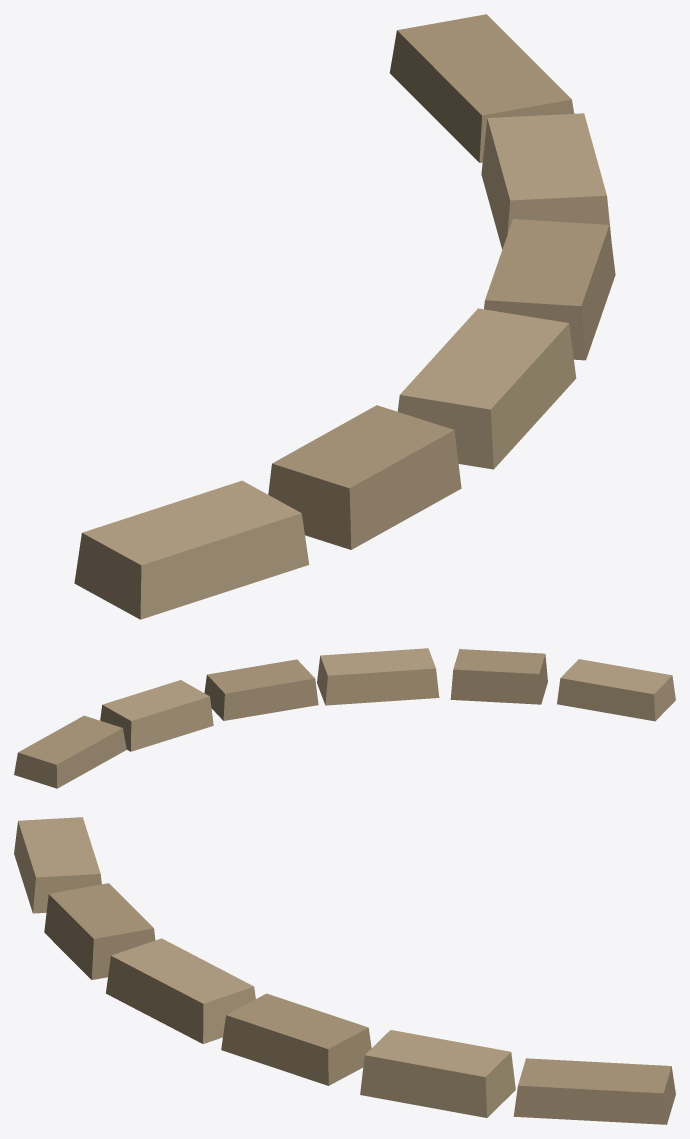
Rendered from oasis_rim.glb.
The picture shows the model from 3 angles, top to bottom: view 1: azimuth 30°, elevation 25°; view 2: azimuth 150°, elevation 25°; view 3: azimuth 270°, elevation 25°; orthographic projection. The views are drawn at different scales.
Parts seen in each view (by area): view 1: oasis_rim; view 2: oasis_rim; view 3: oasis_rim.
Boxes of the visible parts, left/top/right/bottom form: oasis_rim: left=74, top=14, right=615, bottom=619; oasis_rim: left=14, top=648, right=675, bottom=788; oasis_rim: left=14, top=817, right=675, bottom=1124.
Bounding box in the file's own units: 6.33 × 0.4188 × 6.39.
